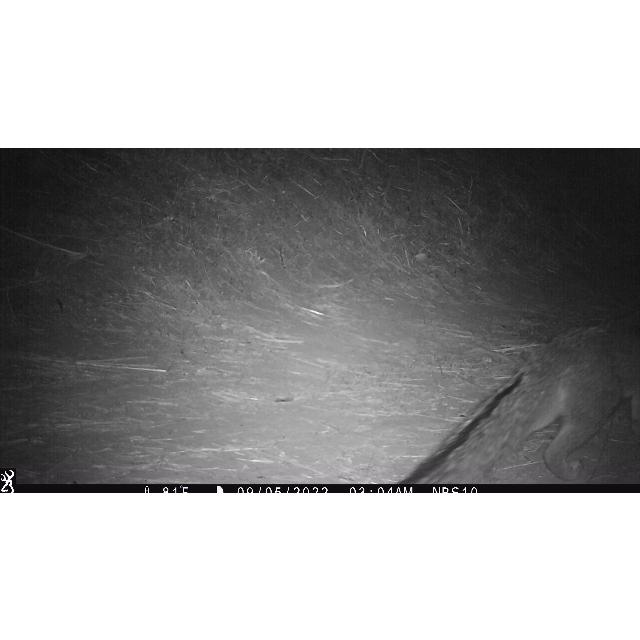animals: (392, 322, 640, 482)
